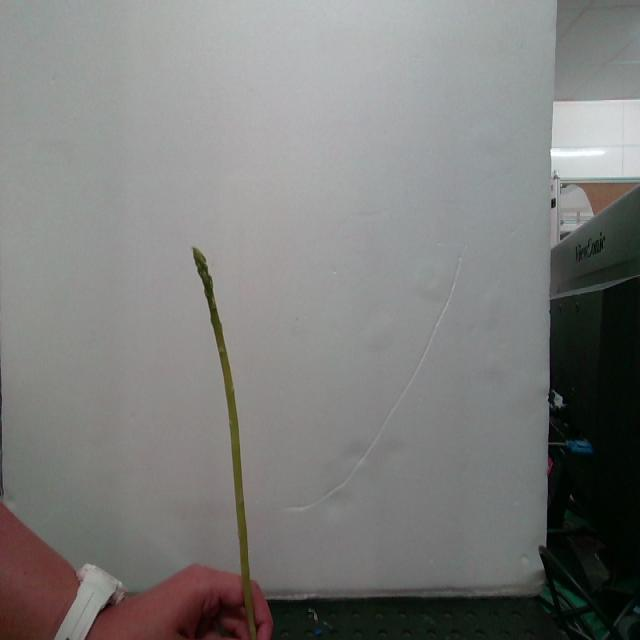aspargus: (193, 249, 257, 640)
